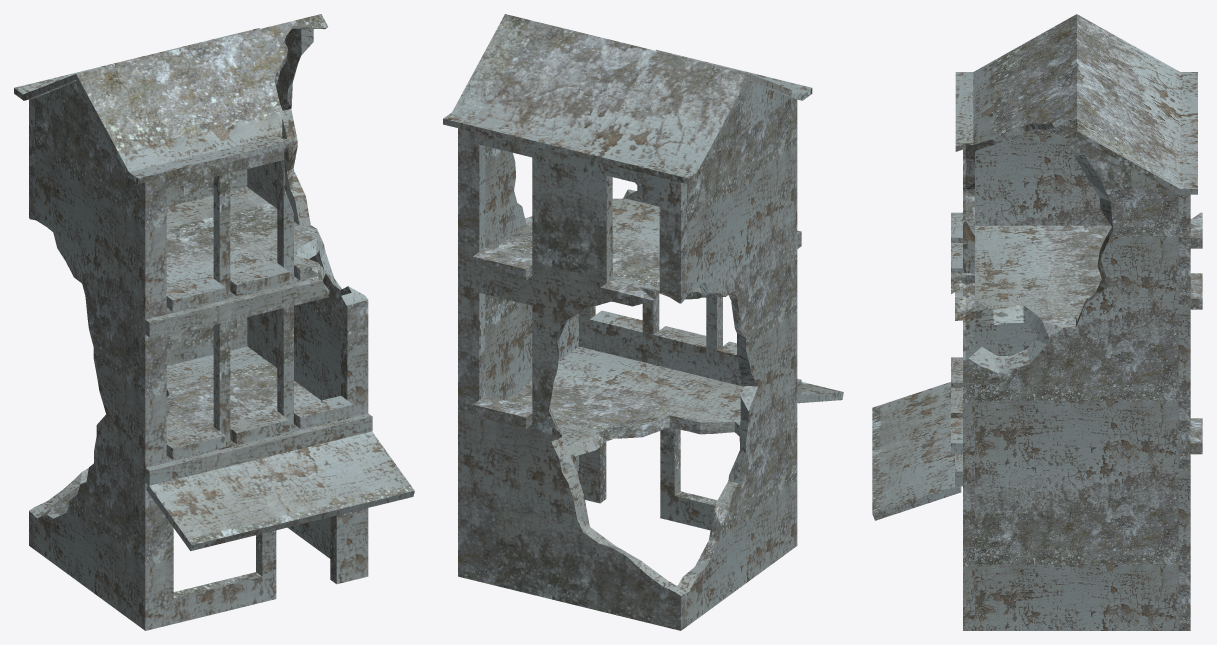
Rendered from nha xa 1.fbx.
3 renders of one model, left to right at view 1: azimuth 30°, elevation 25°; view 2: azimuth 150°, elevation 25°; view 3: azimuth 270°, elevation 25°, orthographic. The views are drawn at different scales.
Parts seen in each view (by area): view 1: cube.017, cube, cube.021, cube.011, cube.001, cube.018, cube.016, cube.003, cube.002, cube.004, cube.005, cube.008 (+3 smaller); view 2: cube.002, cube.017, cube.021, cube.016, cube, cube.001, cube.018, cube.012, cube.013, cube.006, cube.007, cube.015 (+1 smaller); view 3: cube.001, cube.021, cube.018, cube.017, cube.011, cube.002, cube, cube.012, cube.013.
Boxes of the visible parts, box(x1,y1,x2,y2) form: cube.017: box(35, 81, 139, 625); cube: box(139, 148, 368, 630); cube.021: box(14, 14, 327, 184); cube.011: box(146, 431, 414, 550); cube.001: box(247, 28, 356, 558); cube.018: box(166, 187, 326, 289); cube.016: box(166, 346, 320, 437); cube.003: box(145, 413, 372, 485); cube.002: box(29, 98, 247, 549); cube.004: box(145, 279, 329, 337); cube.005: box(166, 427, 225, 459); cube.008: box(166, 278, 225, 311); cube.002: box(458, 128, 686, 630); cube.017: box(677, 81, 791, 626); cube.021: box(443, 14, 812, 184); cube.016: box(505, 346, 744, 457); cube: box(579, 98, 797, 549); cube.001: box(485, 146, 578, 478); cube.018: box(494, 198, 707, 299); cube.012: box(473, 247, 532, 280); cube.013: box(473, 396, 532, 428); cube.006: box(653, 326, 706, 358); cube.007: box(589, 310, 642, 343); cube.015: box(600, 278, 654, 306); cube.001: box(975, 137, 1178, 630); cube.021: box(955, 14, 1197, 194); cube.018: box(975, 225, 1111, 332); cube.017: box(975, 120, 1110, 356); cube.011: box(872, 382, 961, 520); cube.002: box(1178, 194, 1190, 630); cube: box(963, 149, 974, 630); cube.012: box(1190, 273, 1202, 309); cube.013: box(1190, 418, 1202, 454).
Bounding box in the file's own units: 433 × 873 × 517.
Materials: 1 (1 with a texture image).
